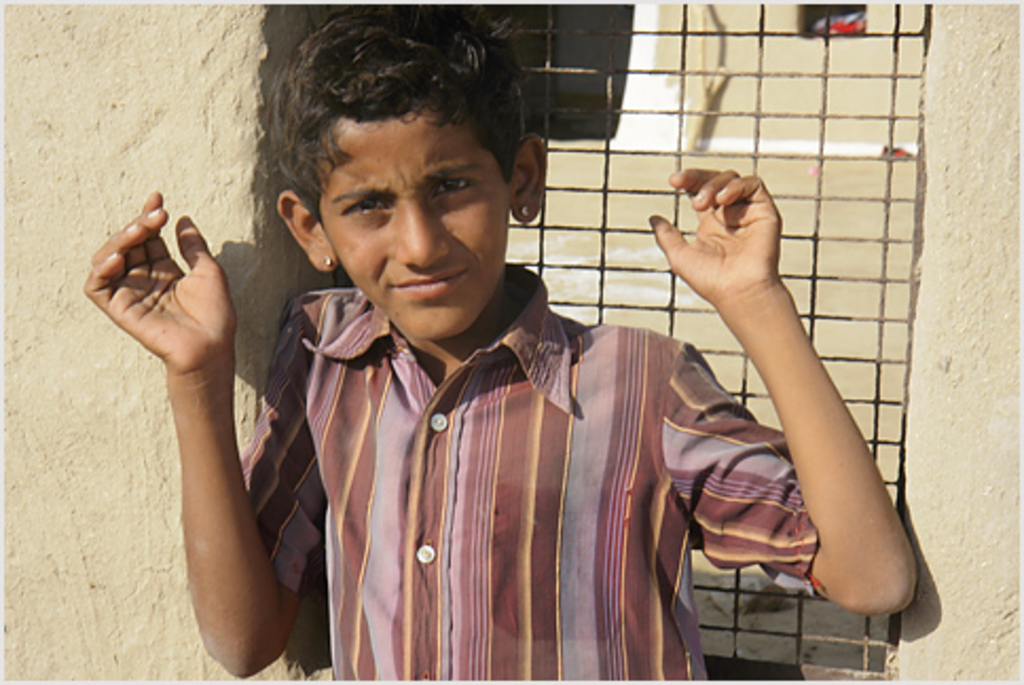Human_hand: (80, 182, 235, 395), (645, 165, 785, 307)
